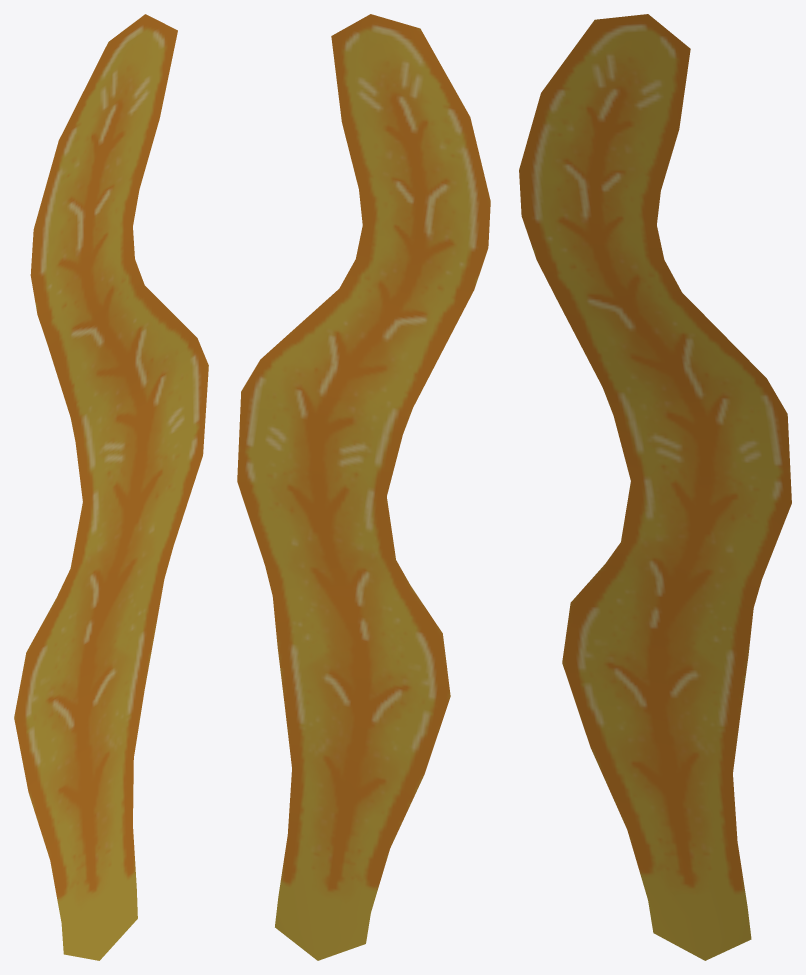
The model's file is Seaweed_Orange_001.fbx.
3 views of the same model, side by side, from view 1: azimuth 30°, elevation 25°; view 2: azimuth 150°, elevation 25°; view 3: azimuth 330°, elevation 25° (orthographic). The views are drawn at different scales.
Visible parts, largest first — view 1: Seaweed_Orange_001; view 2: Seaweed_Orange_001; view 3: Seaweed_Orange_001.
Part boxes in pixels (x1,y1,x2,y2): Seaweed_Orange_001: (14,14,208,960); Seaweed_Orange_001: (237,14,490,960); Seaweed_Orange_001: (519,14,791,960).
Bounding box in the file's own units: 6.78 × 28.72 × 3.48.
